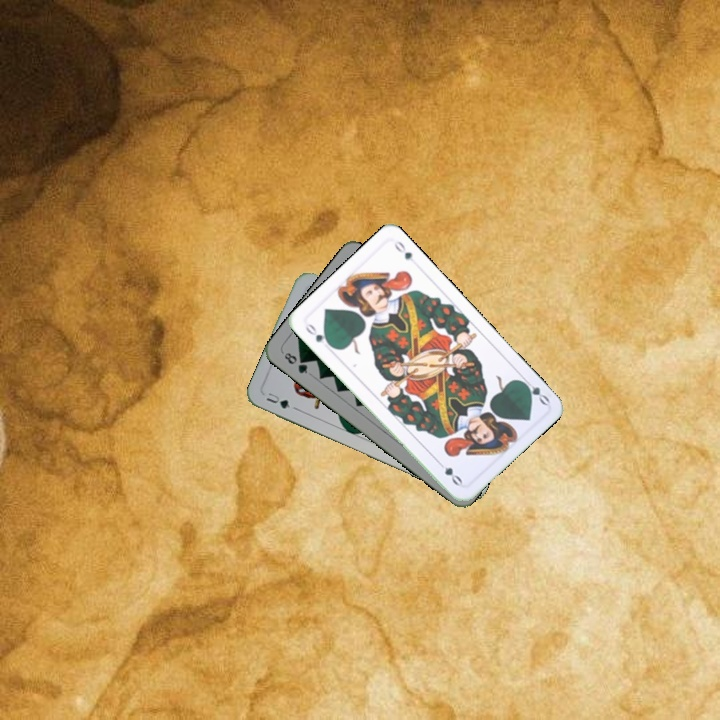G8: (280, 348, 310, 376)
GO: (517, 374, 552, 408), (301, 319, 335, 350)
GU: (262, 388, 293, 411)
